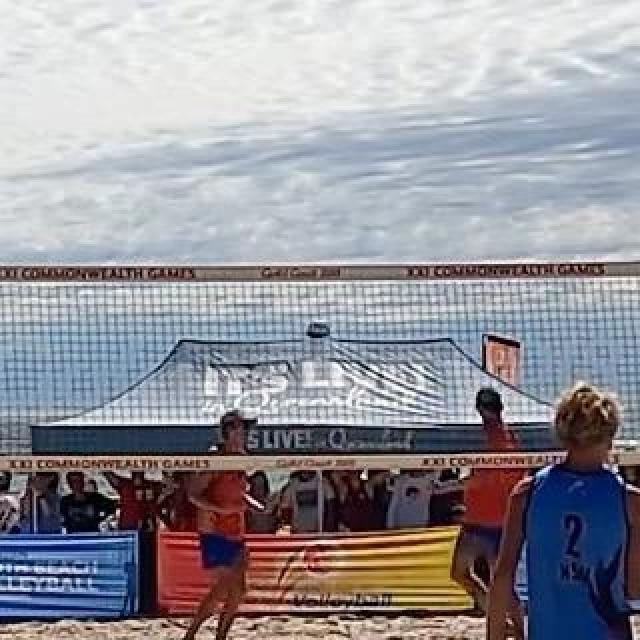volleyball: (306, 319, 332, 345)
